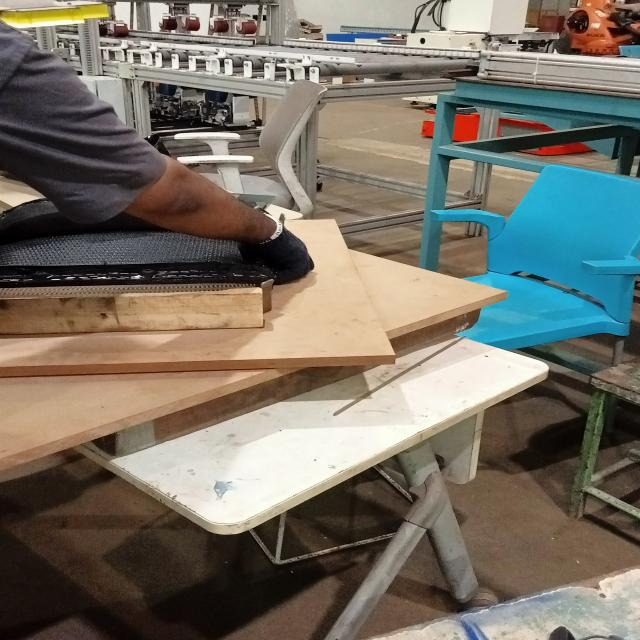Gloves-Detection: (246, 208, 319, 280)
